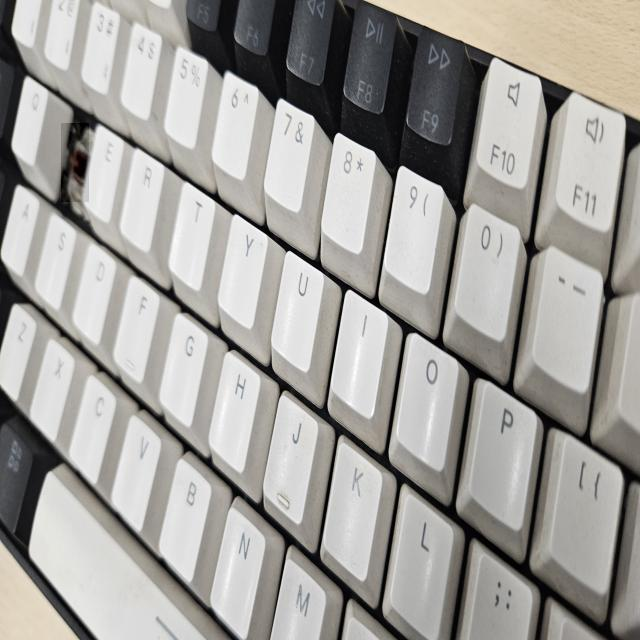C: (62, 123, 90, 202)
